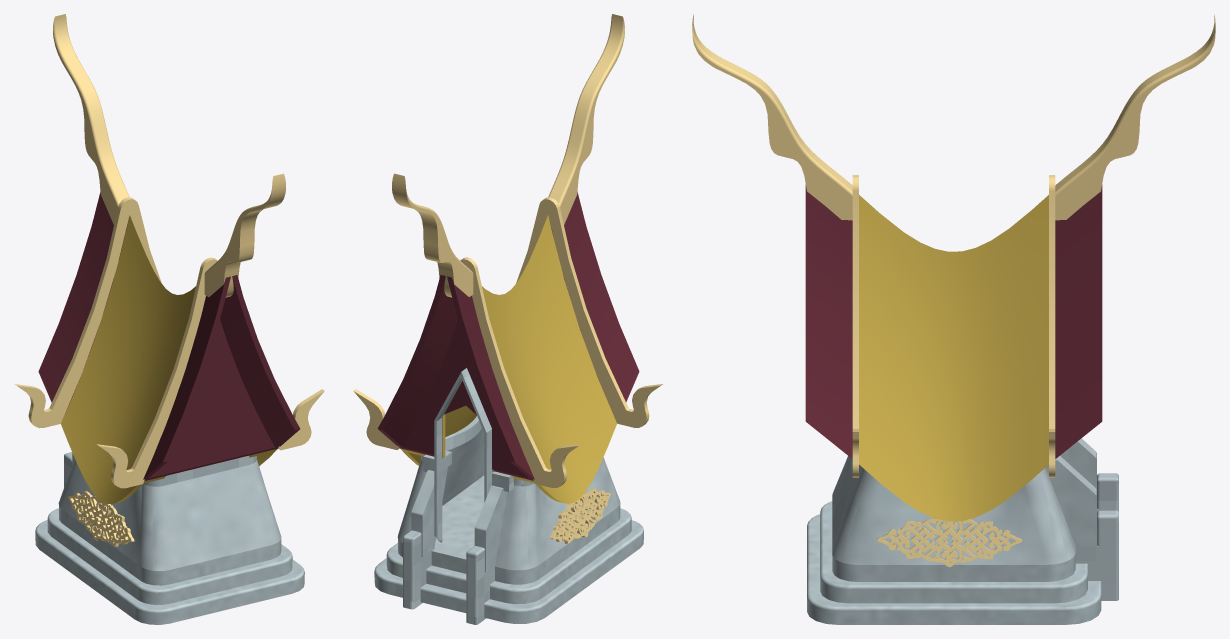
File: cal005-1.glb
The picture shows the model from 3 angles, left to right: view 1: azimuth 30°, elevation 25°; view 2: azimuth 150°, elevation 25°; view 3: azimuth 270°, elevation 25°; orthographic projection. The views are drawn at different scales.
Parts seen in each view (by area): view 1: Part21[82], Part37[145], Part53[225], Part52[326], Part52[321], Part37[154], Part22[97], Part22[90], Part49[207], Part52[222], Part49[212], cbf30ae725705d73f984060f334390d6[803] (+1 smaller); view 2: Part21[82], Part37[154], Part53[225], Part52[326], Part52[222], Part37[145], Part22[90], Part22[97], Part52[321], Part49[212], Part49[207], Part59[298] (+4 smaller); view 3: Part21[82], Part53[225], Part37[145], Part37[154], Part52[326], Part52[321], Part49[207], Part49[212], Part52[222], cbf30ae725705d73f984060f334390d6[801], Part67[482], Part22[90] (+2 smaller).
Boxes of the visible parts, left/top/right/bottom form: Part21[82]: left=61, top=215, right=277, bottom=504; Part37[145]: left=143, top=275, right=300, bottom=480; Part53[225]: left=58, top=453, right=281, bottom=570; Part52[326]: left=35, top=520, right=304, bottom=624; Part52[321]: left=47, top=508, right=292, bottom=604; Part37[154]: left=38, top=192, right=128, bottom=419; Part22[97]: left=14, top=197, right=161, bottom=428; Part22[90]: left=97, top=257, right=324, bottom=488; Part49[207]: left=53, top=14, right=129, bottom=224; Part52[222]: left=59, top=506, right=281, bottom=585; Part49[212]: left=204, top=173, right=285, bottom=297; cbf30ae725705d73f984060f334390d6[803]: left=68, top=491, right=134, bottom=546; Part21[82]: left=400, top=215, right=616, bottom=503; Part37[154]: left=377, top=275, right=534, bottom=480; Part53[225]: left=397, top=428, right=620, bottom=572; Part52[326]: left=374, top=520, right=643, bottom=623; Part52[222]: left=398, top=472, right=620, bottom=584; Part37[145]: left=549, top=192, right=639, bottom=402; Part22[90]: left=516, top=197, right=662, bottom=427; Part22[97]: left=353, top=257, right=580, bottom=487; Part52[321]: left=386, top=508, right=631, bottom=604; Part49[212]: left=548, top=14, right=624, bottom=224; Part49[207]: left=392, top=173, right=473, bottom=297; Part59[298]: left=434, top=368, right=491, bottom=542; Part21[82]: left=859, top=195, right=1048, bottom=521; Part53[225]: left=832, top=438, right=1096, bottom=564; Part37[145]: left=805, top=185, right=852, bottom=458; Part37[154]: left=1055, top=185, right=1102, bottom=458; Part52[326]: left=807, top=514, right=1101, bottom=624; Part52[321]: left=820, top=501, right=1087, bottom=603; Part49[207]: left=1055, top=14, right=1215, bottom=220; Part49[212]: left=692, top=14, right=852, bottom=220; Part52[222]: left=832, top=553, right=1075, bottom=581; cbf30ae725705d73f984060f334390d6[801]: left=876, top=518, right=1022, bottom=567; Part67[482]: left=1075, top=510, right=1118, bottom=600; Part22[90]: left=852, top=175, right=858, bottom=477.
Size of the model in its own units: 0.00491 by 0.00979 by 0.00826.
Materials: 17 (8 with a texture image).
